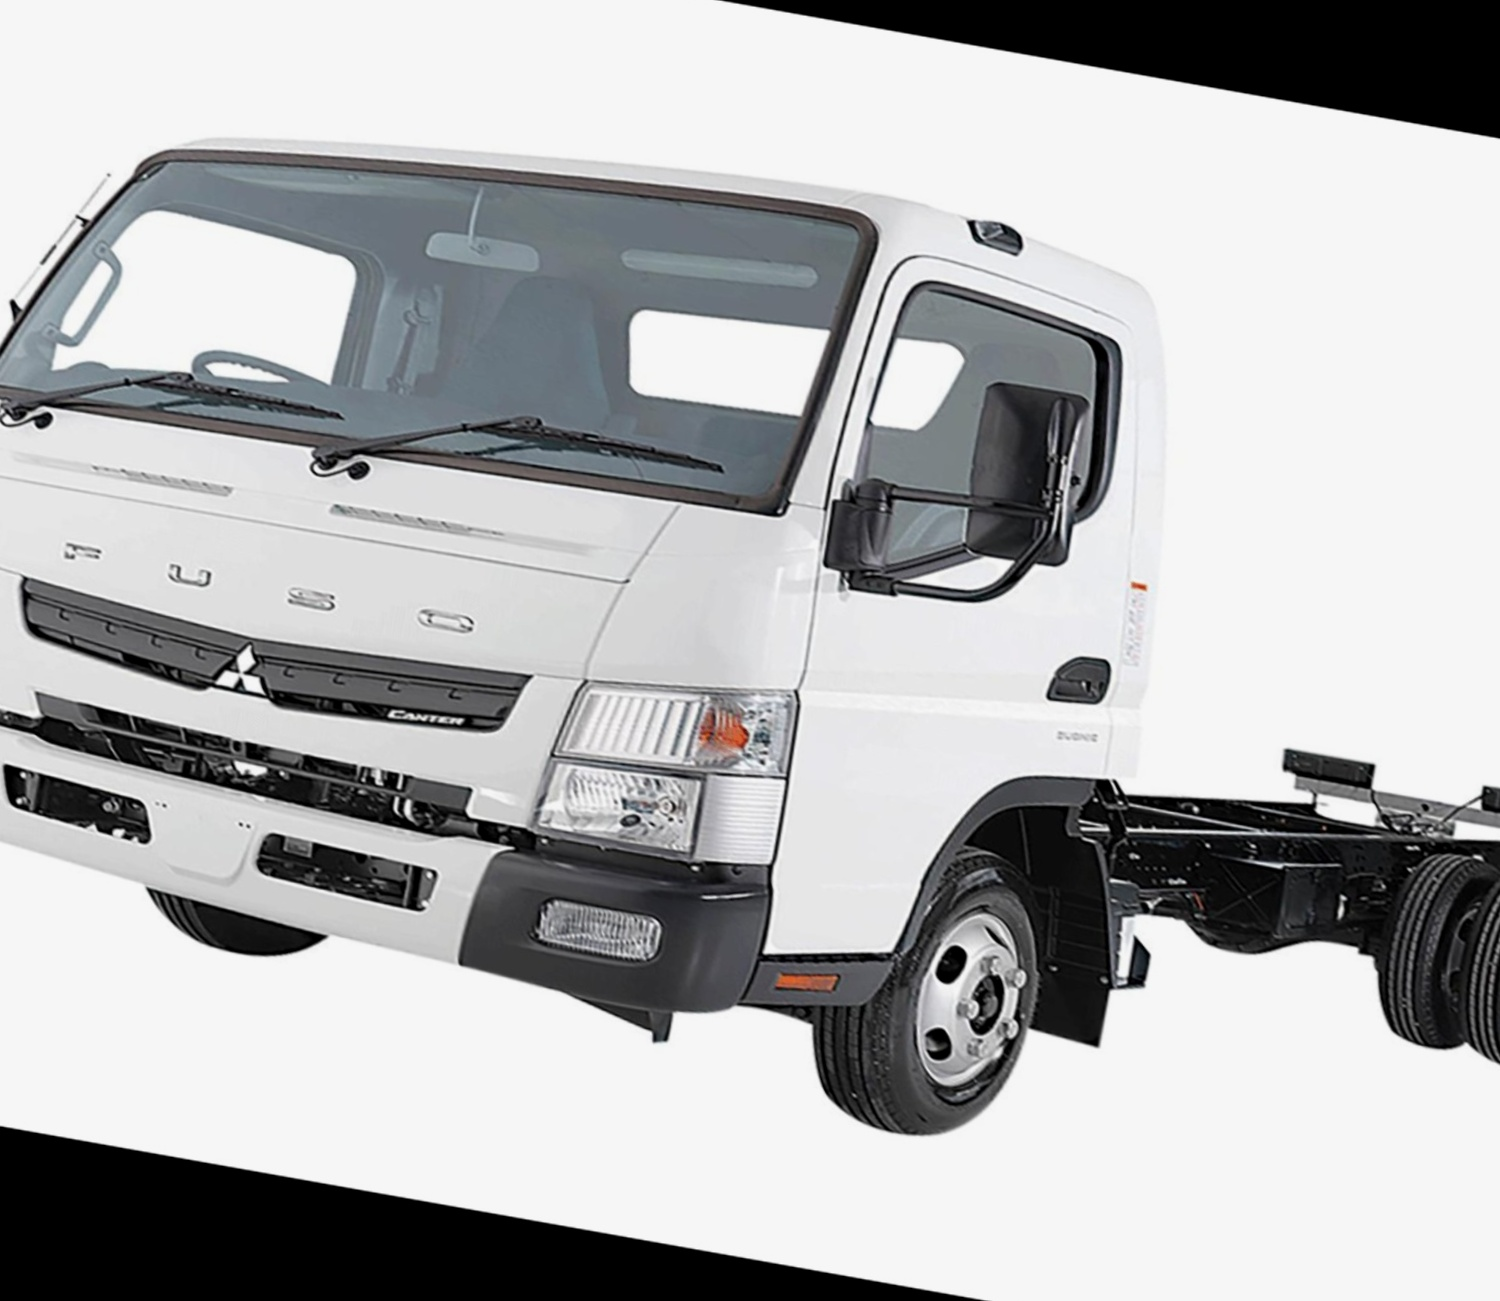truck: (0, 29, 1500, 1247)
